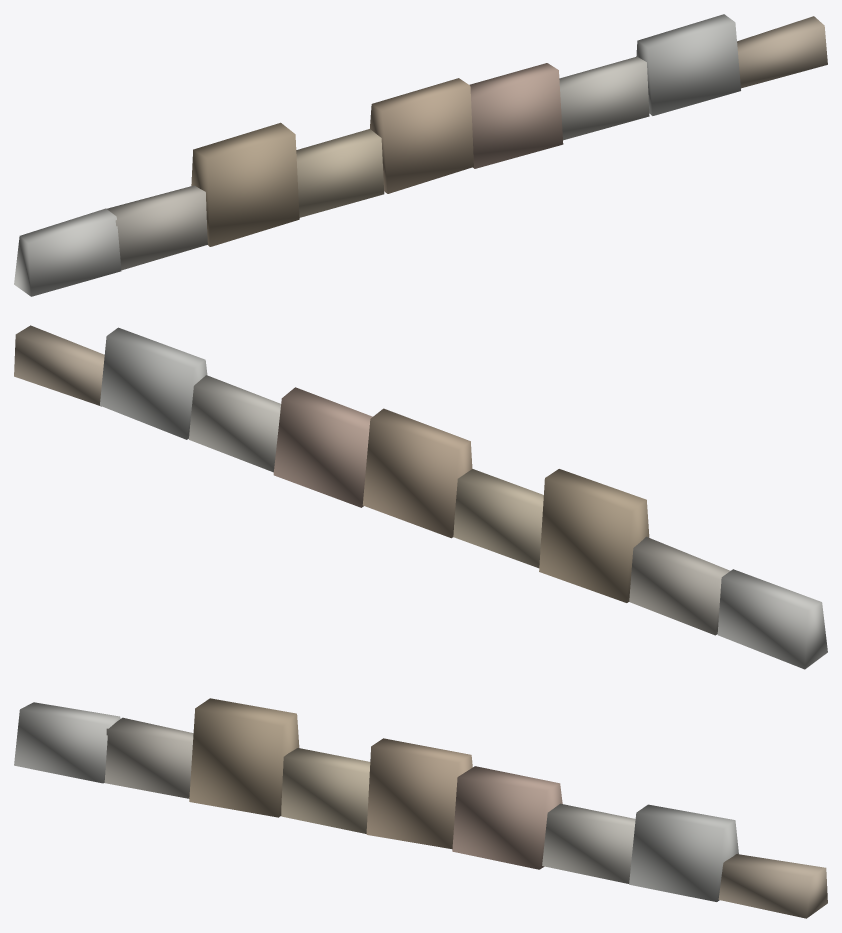
Rendered from farm_27_20_far.glb.
3 views of the same model, one above another, from view 1: azimuth 30°, elevation 25°; view 2: azimuth 150°, elevation 25°; view 3: azimuth 330°, elevation 25° (orthographic). The views are drawn at different scales.
Visible parts, largest first — view 1: geometry_0; view 2: geometry_0; view 3: geometry_0.
Boxes of the visible parts, bbox=[...] form: geometry_0: bbox=[14, 14, 827, 296]; geometry_0: bbox=[14, 325, 827, 669]; geometry_0: bbox=[14, 698, 827, 918].
Size of the model in its own units: 14.18 by 2.19 by 1.5.
